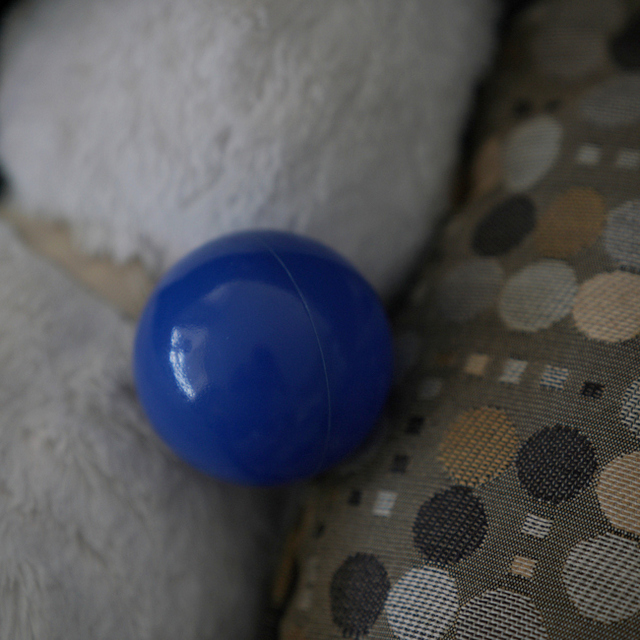Ball: (132, 230, 392, 483)
